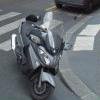Motorcycle: (7, 10, 67, 100)
